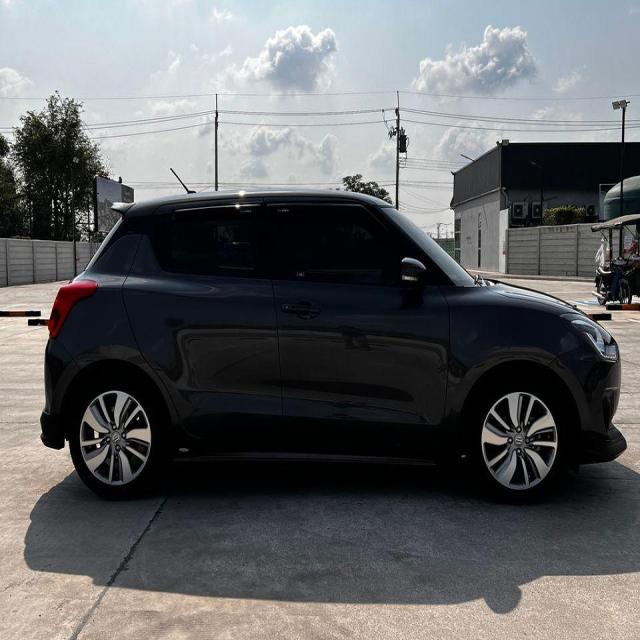Hatchback: (39, 188, 627, 501)
